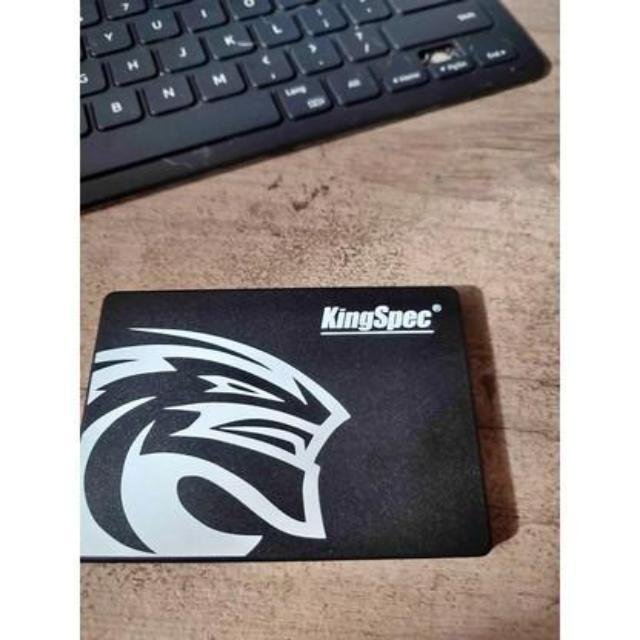DISK: (77, 284, 497, 562)
